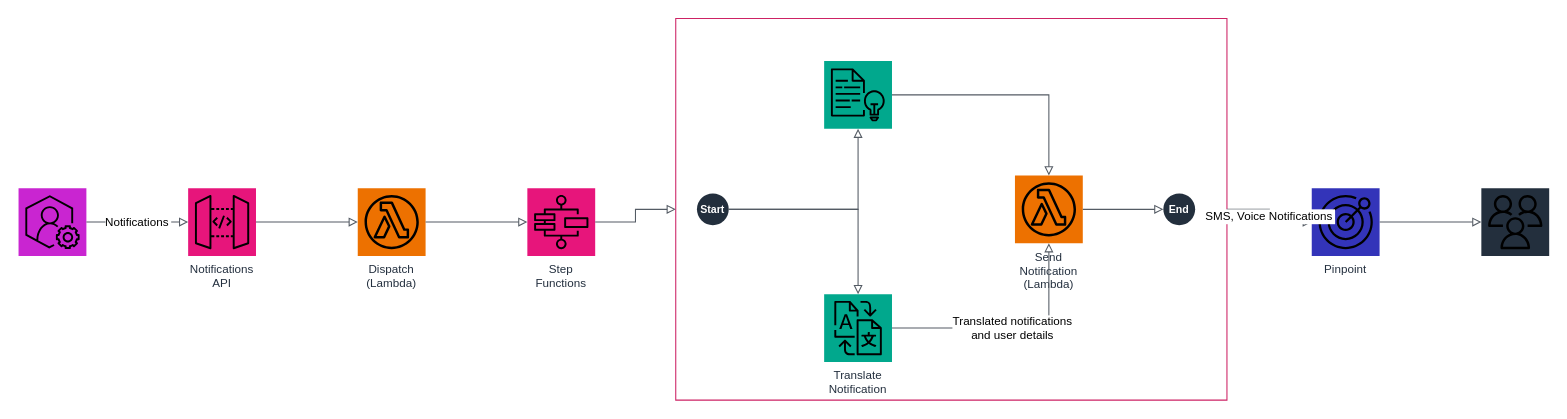
Some shapes in this 1567 by 419 pixel diagram are drawn without their labels. The box of each missing label's shape, as (x1, y1, x2, y2) in pixels:
Analyze Sentiment: (824, 60, 891, 128)
AWS Step Functions Workflow: (675, 17, 1227, 400)
Support App: (18, 188, 86, 255)
Users: (1481, 188, 1549, 255)
